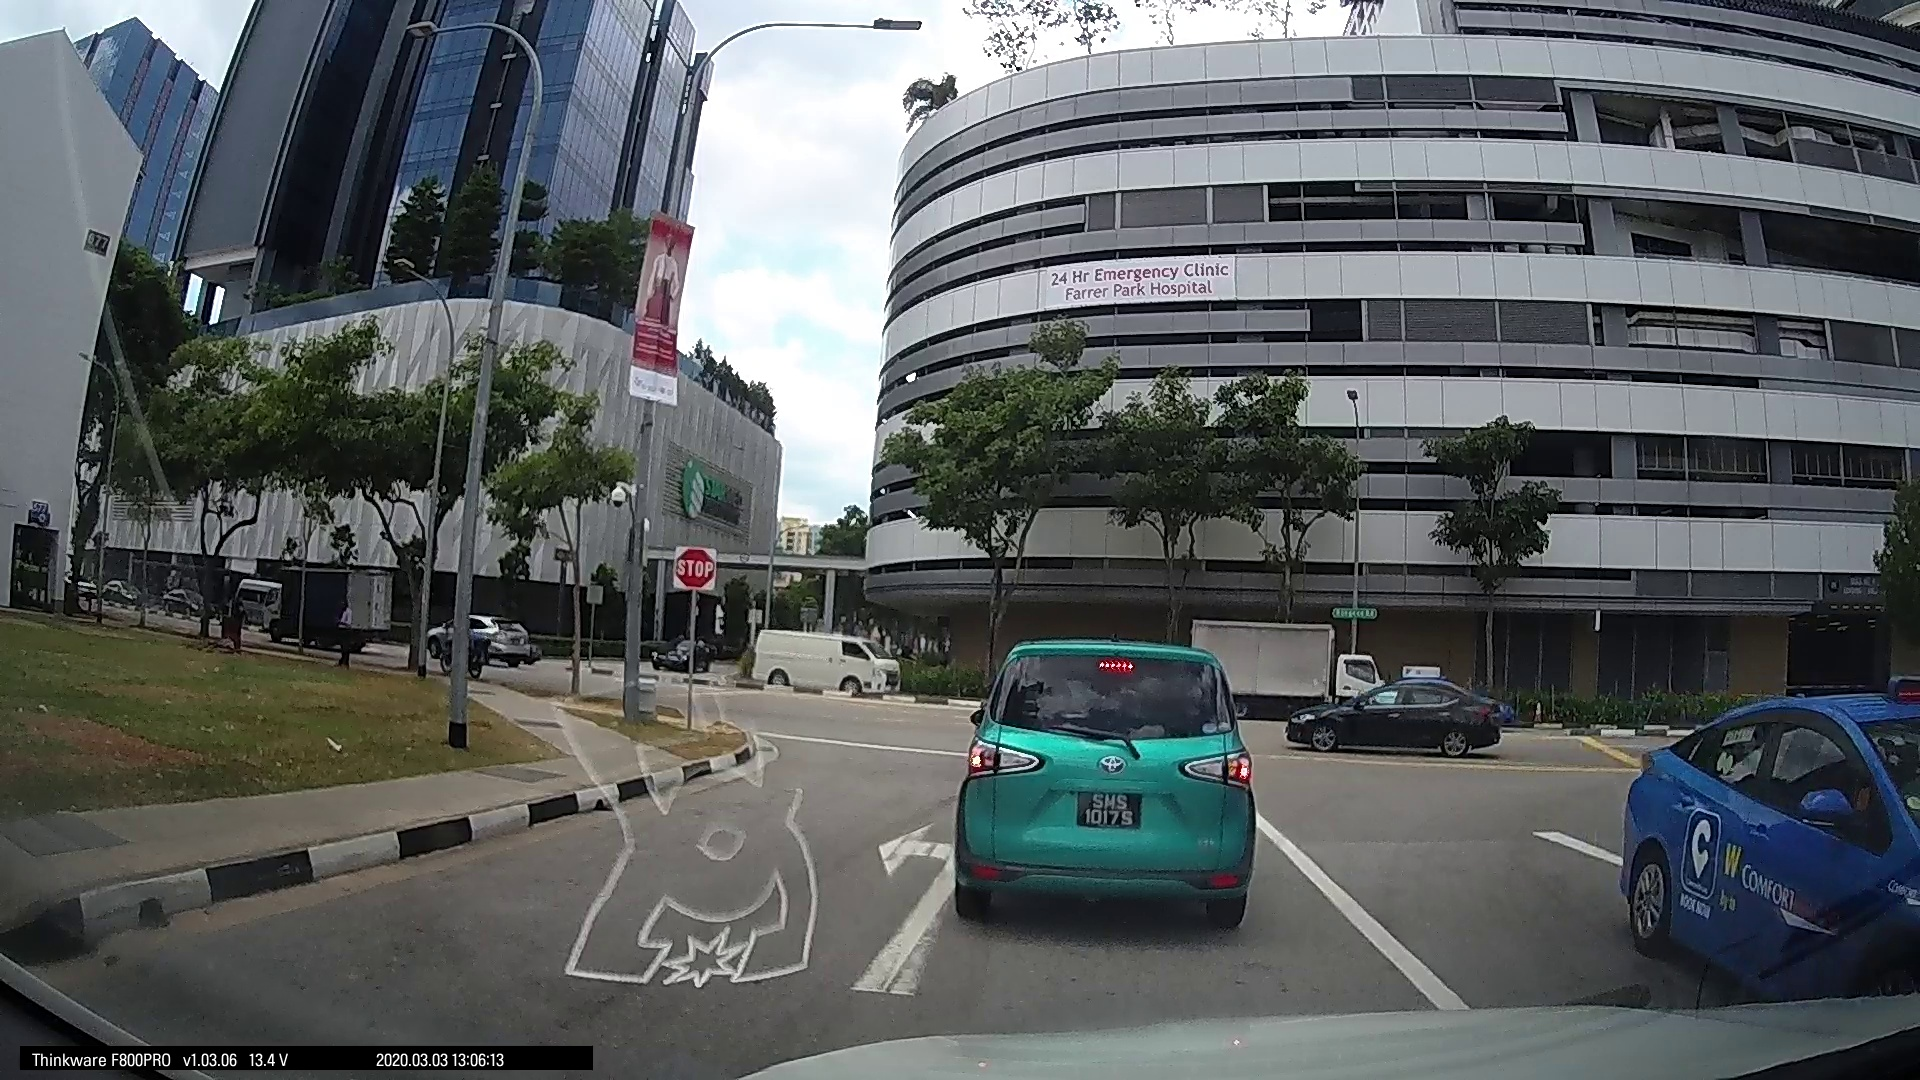Light Vehicle: (945, 622, 1261, 931), (1607, 698, 1917, 997), (1288, 671, 1510, 757), (735, 625, 901, 698), (436, 611, 542, 669)
